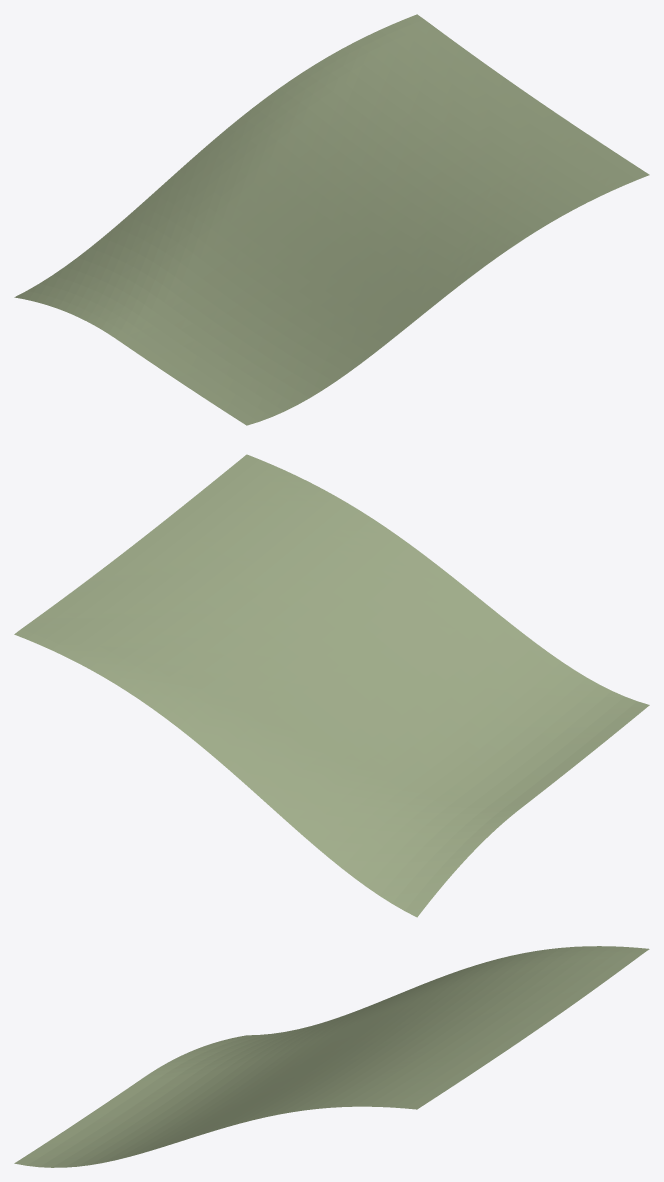
File: expanse-16-3.glb
3 renders of one model, top to bottom at view 1: azimuth 30°, elevation 25°; view 2: azimuth 150°, elevation 25°; view 3: azimuth 330°, elevation 25°, orthographic.
Parts seen in each view (by area): view 1: expanse-16-3; view 2: expanse-16-3; view 3: expanse-16-3.
Part boxes in pixels (x1,y1,x2,y2): expanse-16-3: (14,14,649,425); expanse-16-3: (14,454,649,917); expanse-16-3: (14,946,649,1167).
Bounding box in the file's own units: 256 × 118 × 256.
